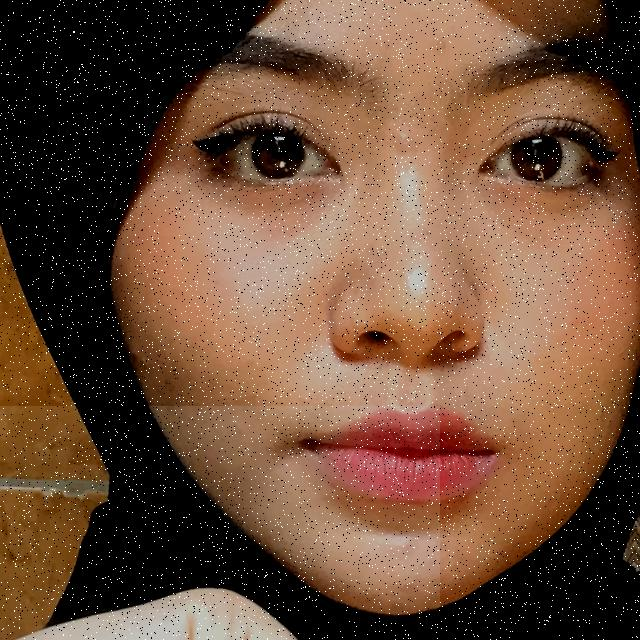sedih: (0, 406, 440, 640)
